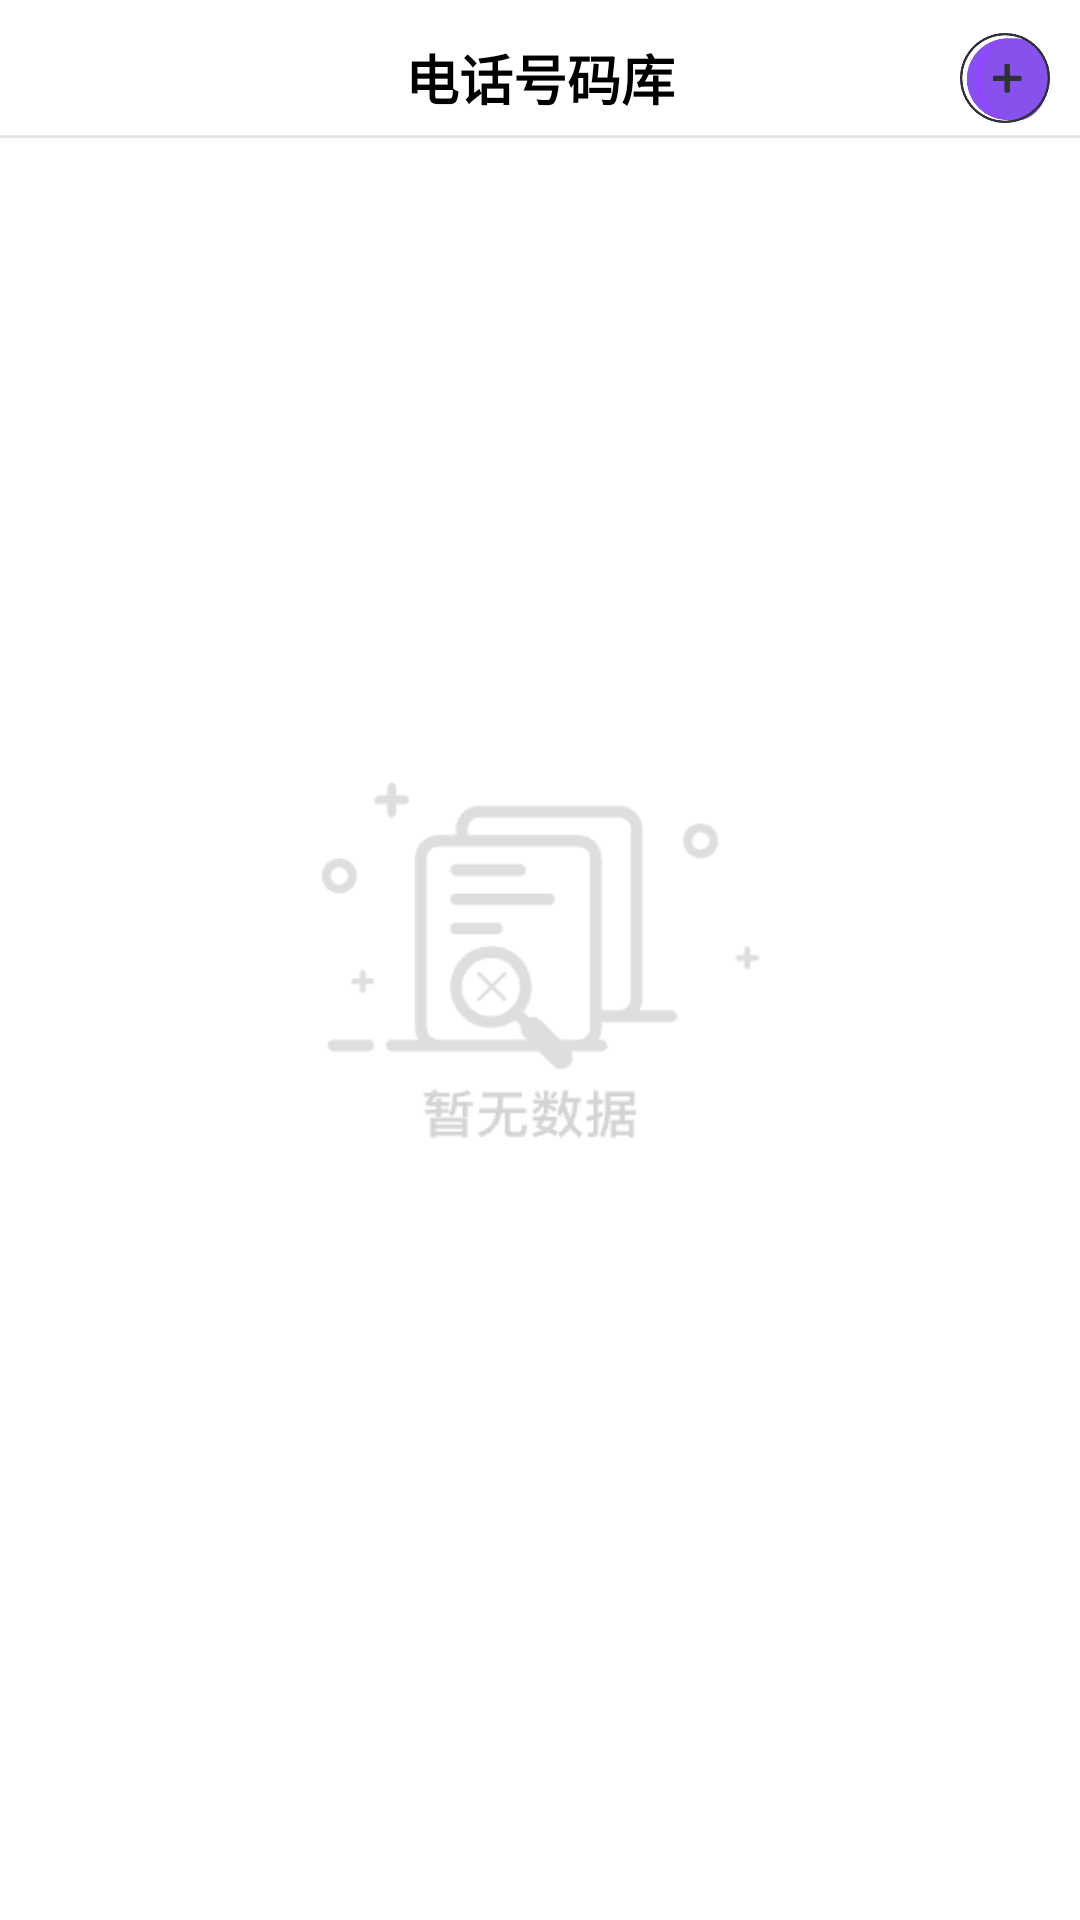

Named icons in this screenshot (1080*1920) and their centers, point (x, y):
addbook: point (1005, 78)
